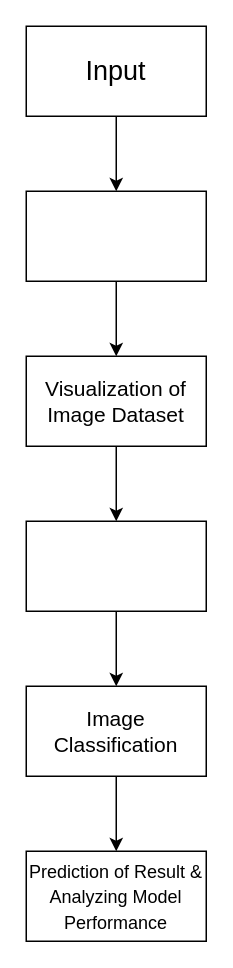
This 233x968 diagram has some shape labels left out. Each missing label, with the centre of its shape:
Feature Selection: the point at 115,565
Image Pre - processing: the point at 115,235
